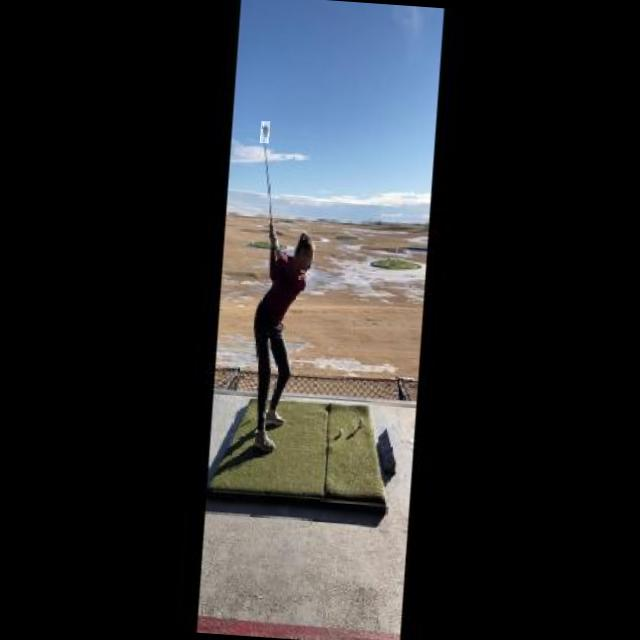club head: (260, 120, 270, 143)
